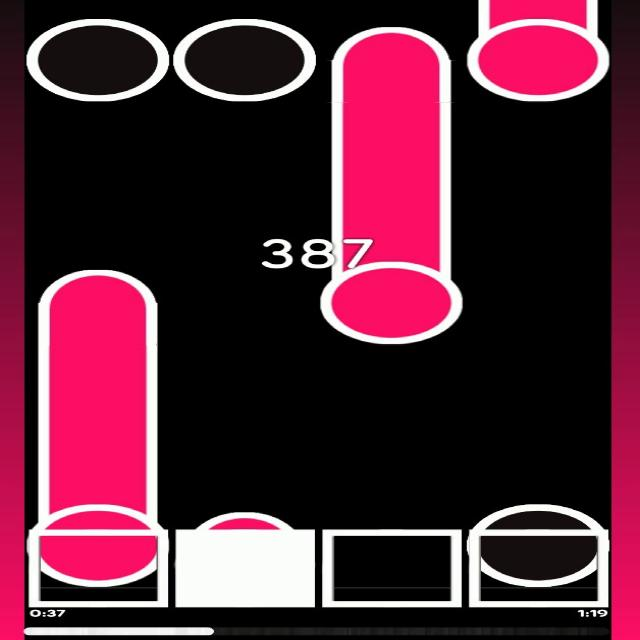end_hold: (34, 258, 164, 324), (328, 19, 454, 74)
note: (172, 17, 314, 102), (28, 19, 170, 102), (469, 505, 607, 589)
start_hold: (464, 5, 612, 103), (322, 247, 462, 346)
